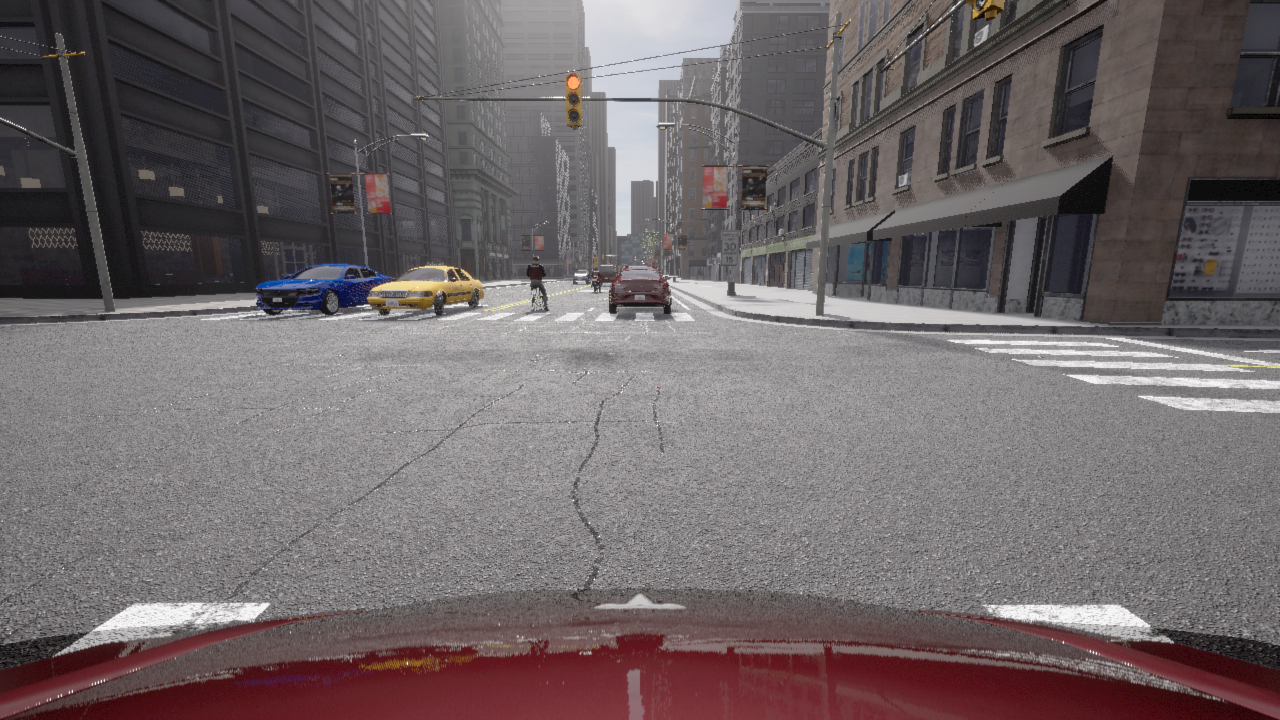cyclist: (0, 588, 1279, 719), (256, 263, 391, 314), (367, 262, 483, 314), (609, 265, 670, 313), (598, 265, 617, 284), (531, 287, 543, 311), (573, 270, 590, 283), (592, 275, 599, 291)
